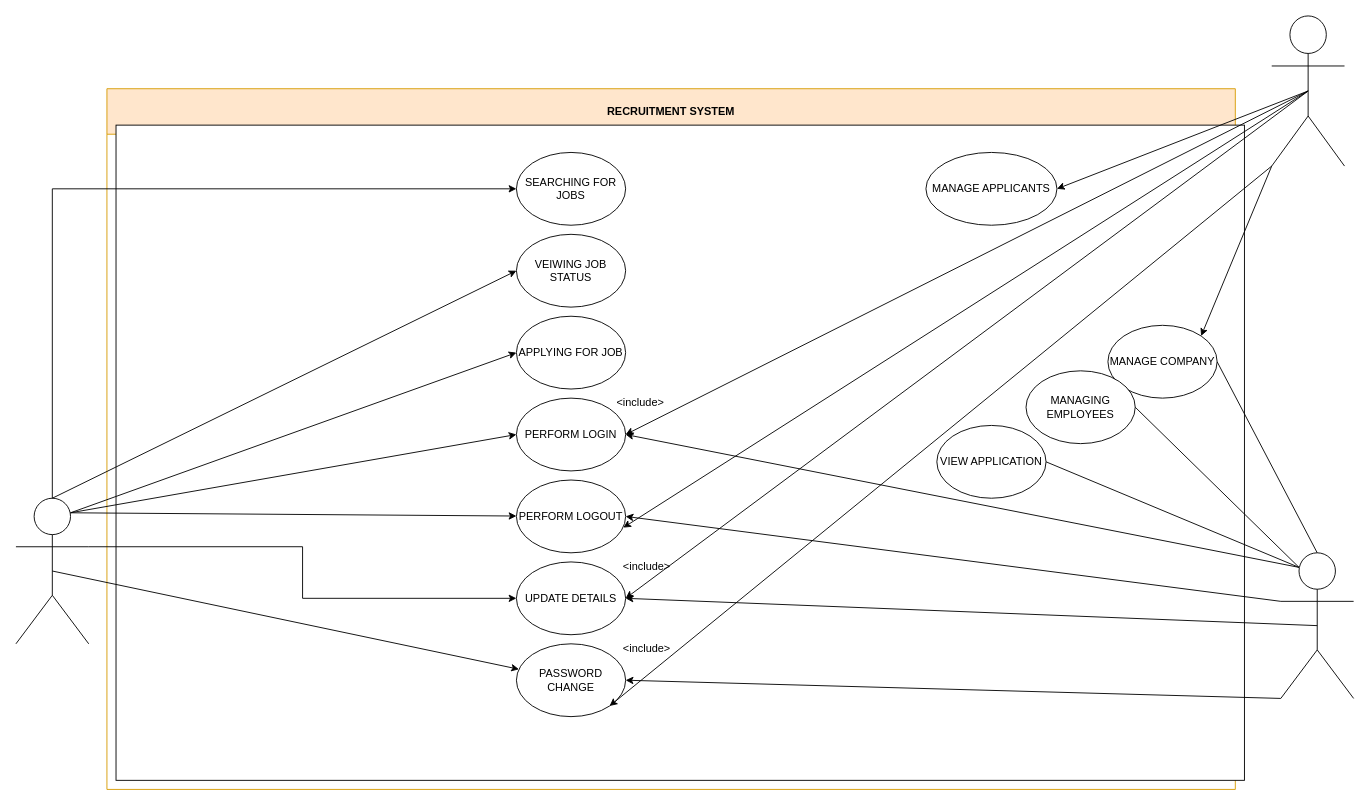
Some shapes in this 1370 by 805 pixel diagram are drawn without their labels. The centre of each missing label's shape, as x and y in pixels:
Admin: pixel 1308 90
APPLICANT: pixel 52 570
HR: pixel 1317 625
